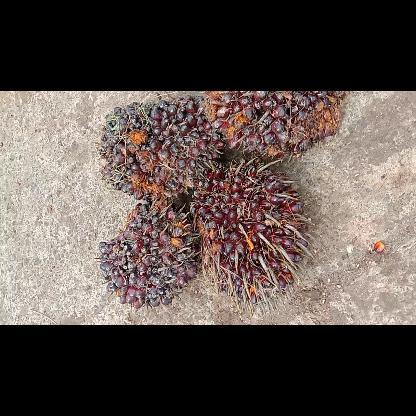Kurang masak: (188, 160, 312, 308), (95, 94, 226, 204), (96, 195, 200, 310), (201, 91, 349, 164)
